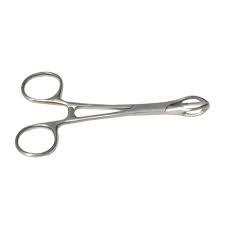Lane Tissue Forceps: (13, 69, 211, 158)
